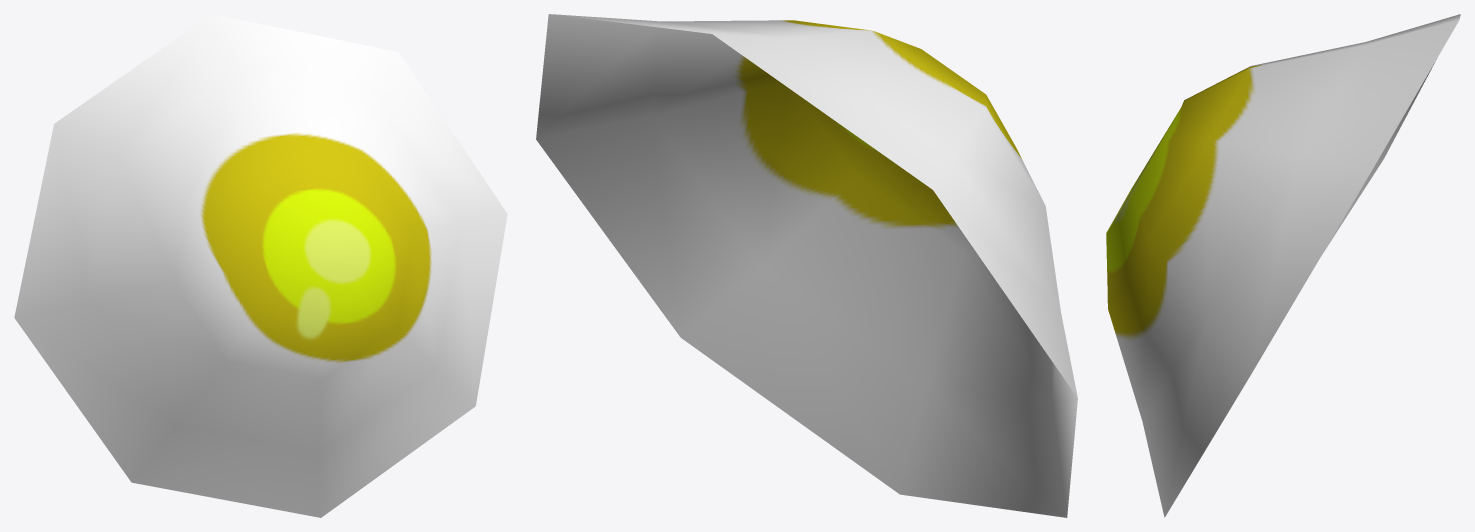
Rendered from M_EnemyGhost_1_RightEye.fbx.
The picture shows the model from 3 angles, left to right: view 1: azimuth 30°, elevation 25°; view 2: azimuth 150°, elevation 25°; view 3: azimuth 270°, elevation 25°; orthographic projection. The views are drawn at different scales.
Visible parts, largest first — view 1: M_EnemyGhost_1_RightEye; view 2: M_EnemyGhost_1_RightEye; view 3: M_EnemyGhost_1_RightEye.
Part boxes in pixels (bbox=[...]): M_EnemyGhost_1_RightEye: bbox=[14, 14, 507, 517]; M_EnemyGhost_1_RightEye: bbox=[536, 14, 1077, 517]; M_EnemyGhost_1_RightEye: bbox=[1106, 14, 1460, 517].
Size of the model in its own units: 63.84 by 57.33 by 36.65.
